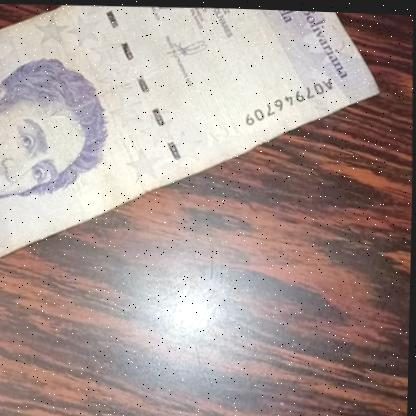ten-front-vef: (0, 0, 378, 276)
